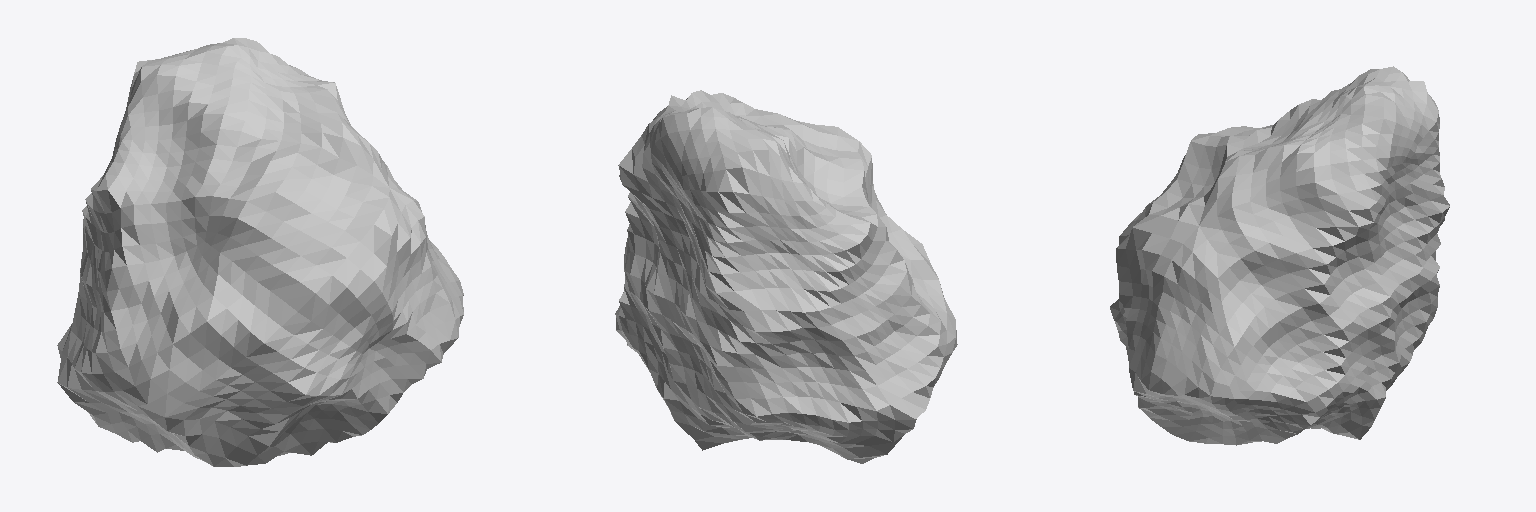
File: asteroid_005.obj
The picture shows the model from 3 angles: view 1: azimuth 30°, elevation 25°; view 2: azimuth 150°, elevation 25°; view 3: azimuth 270°, elevation 25°; orthographic projection.
Parts seen in each view (by area): view 1: rock; view 2: rock; view 3: rock.
Part boxes in pixels (left/top/right/bottom): rock: left=57, top=38, right=463, bottom=466; rock: left=615, top=90, right=957, bottom=463; rock: left=1110, top=66, right=1449, bottom=445.
Size of the model in its own units: 3.22 by 3.13 by 2.75.